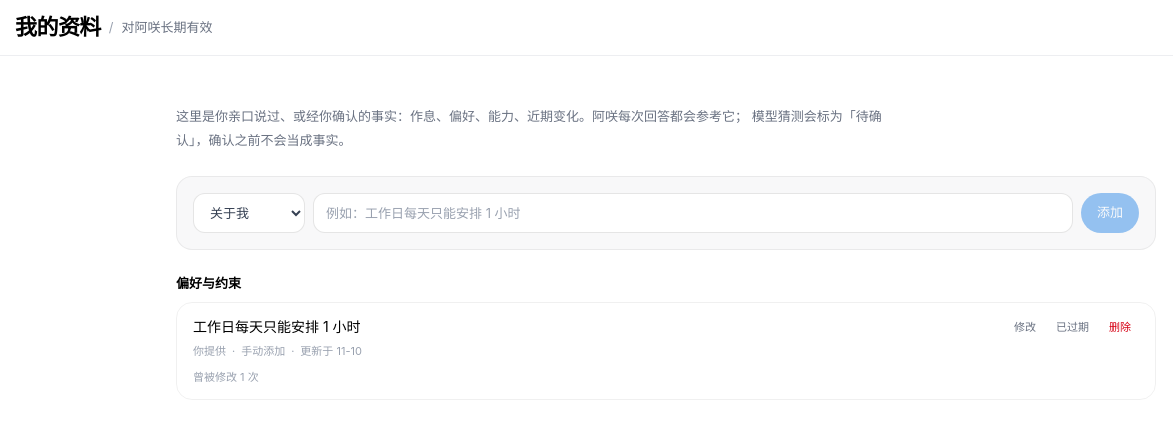
expanding the history shows the old text, origin and replaced date
The image size is (1173, 448).
Click the button "曾被修改 1 次".
click(226, 377)  # box [193, 369, 259, 386]
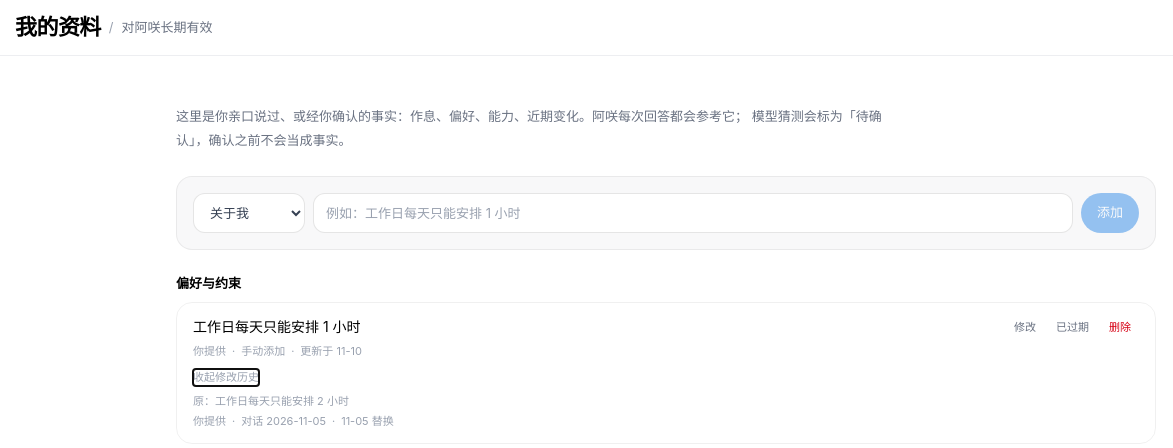
Expected: the text "原：工作日每天只能安排 2 小时" is shown, [193, 394, 349, 408]
Expected: the text "11-05 替换" is shown, [341, 411, 394, 431]
Expected: the text "对话 2026-11-05" is shown, [241, 411, 326, 431]
Click the button "收起修改历史".
click(226, 377)  # box [193, 369, 259, 386]
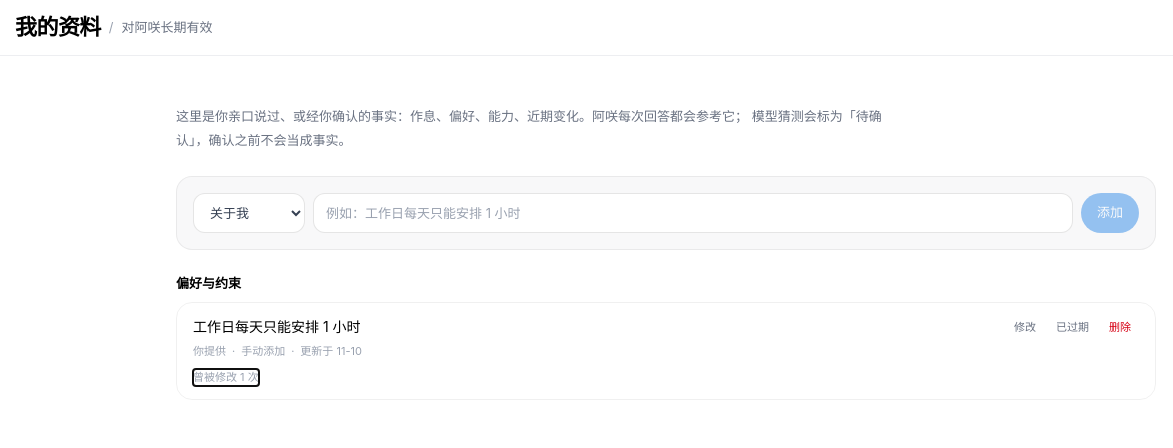
Expected: the text "原：工作日每天只能安排 2 小时" is gone
